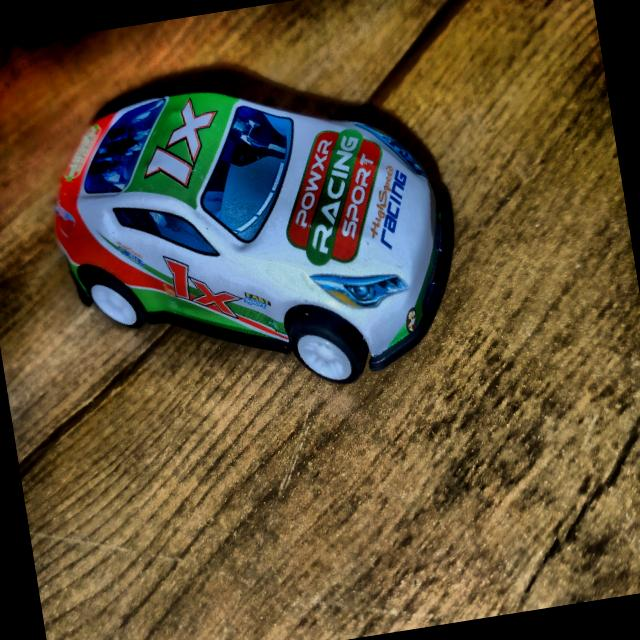Car: (38, 54, 471, 424)
